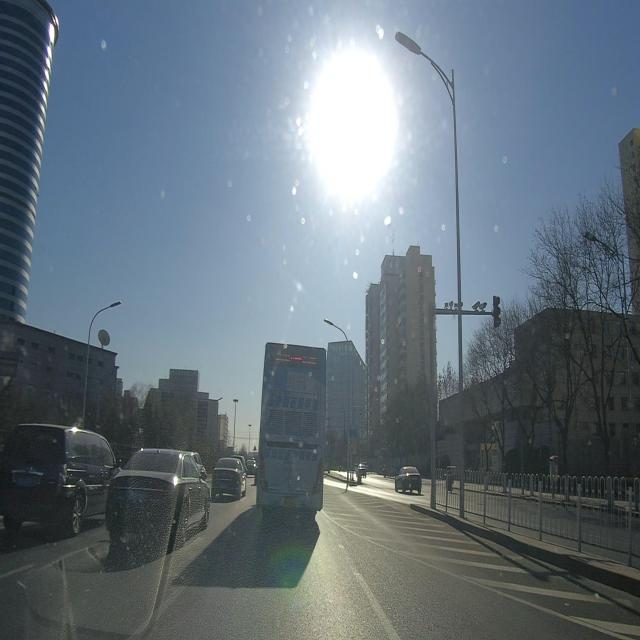Traffic Light -Off-: (492, 294, 502, 332)
